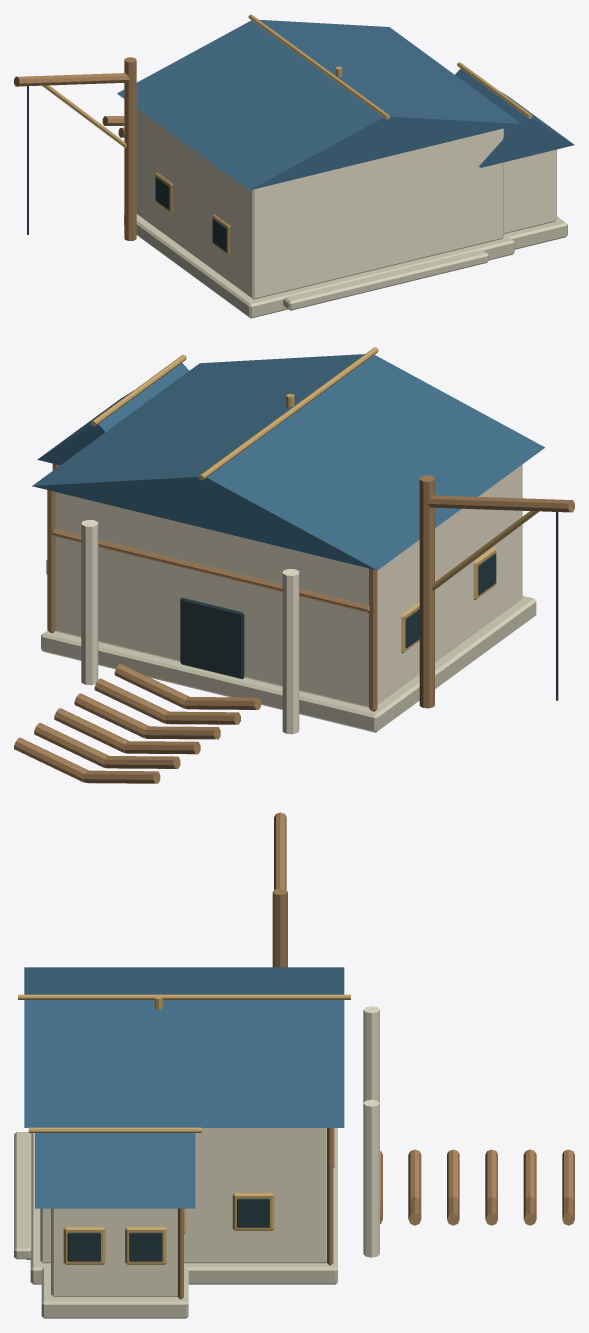
File: level_19.glb
3 views of the same model, one above another, from view 1: azimuth 30°, elevation 25°; view 2: azimuth 150°, elevation 25°; view 3: azimuth 270°, elevation 25° (orthographic). The views are drawn at different scales.
Parts seen in each view (by area): view 1: shipyard — level 19; view 2: shipyard — level 19; view 3: shipyard — level 19.
Part boxes in pixels (x1,y1,x2,y2): shipyard — level 19: (14,14,574,318); shipyard — level 19: (14,347,574,783); shipyard — level 19: (14,812,574,1318).
Size of the model in its own units: 9.97 by 4.16 by 8.76.
